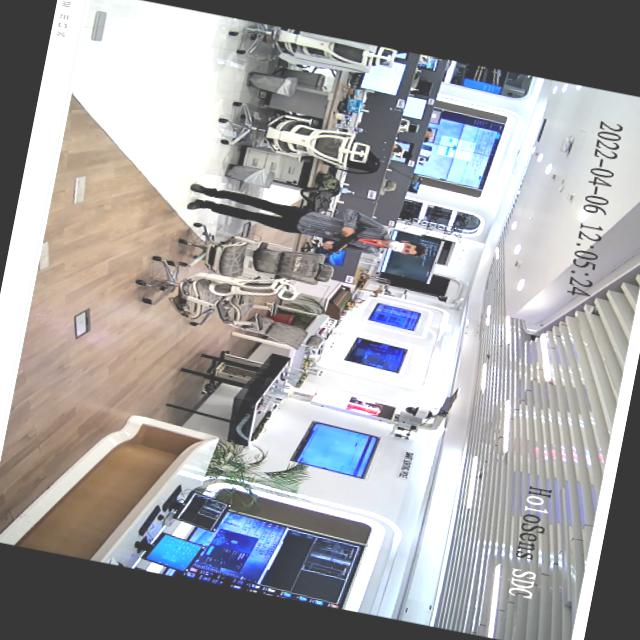long weapon: (308, 217, 366, 270)
